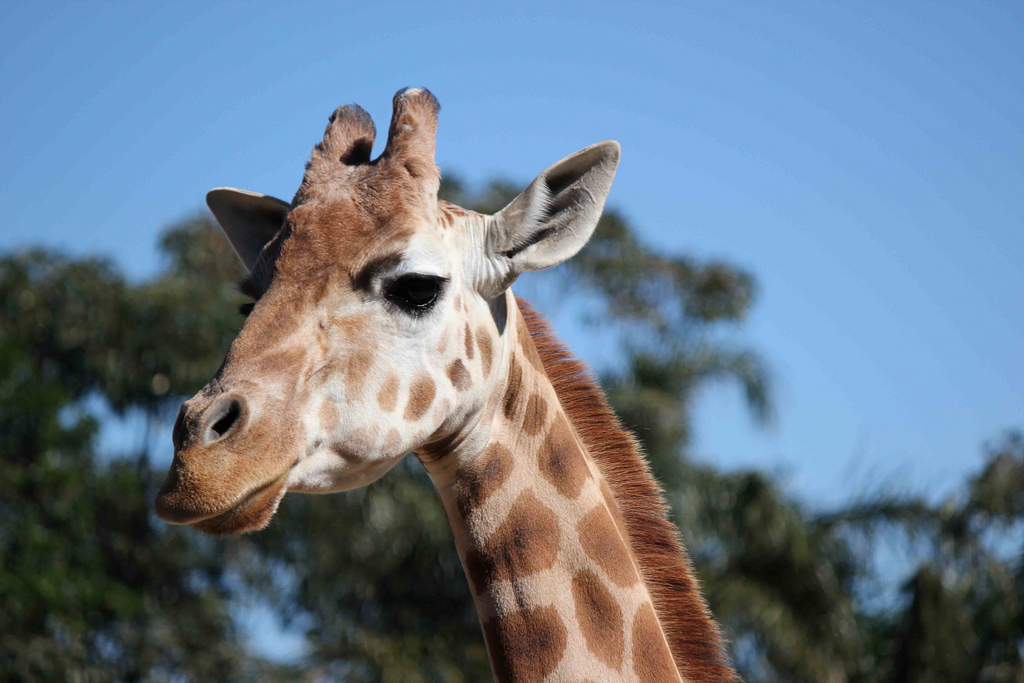giraffe: (109, 88, 783, 656)
